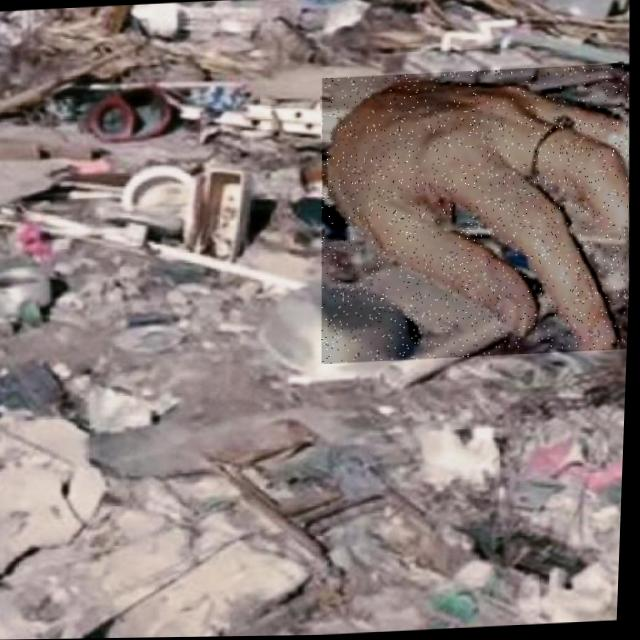Person in Rubble: (313, 64, 638, 364)
